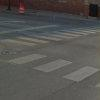Crosswalk: (5, 17, 97, 48)
